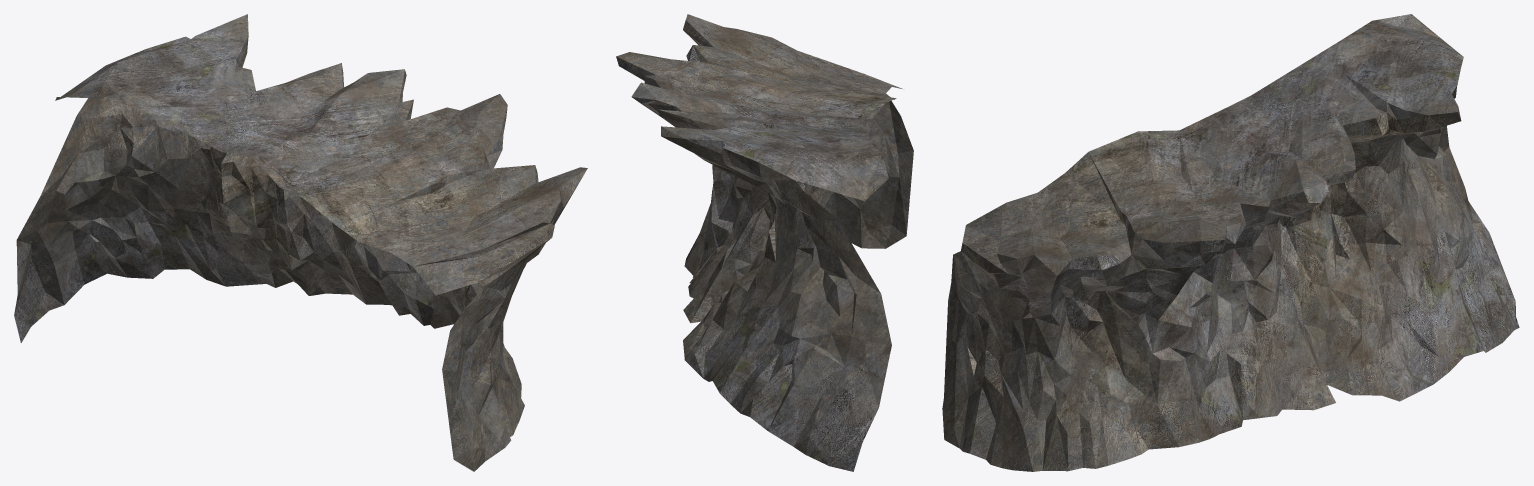
Rendered from RockWall3-2.fbx.
3 views of the same model, side by side, from view 1: azimuth 30°, elevation 25°; view 2: azimuth 150°, elevation 25°; view 3: azimuth 270°, elevation 25° (orthographic). The views are drawn at different scales.
Parts seen in each view (by area): view 1: LV_NSaltus_Rock_CrystalRock02_SM_KBE; view 2: LV_NSaltus_Rock_CrystalRock02_SM_KBE; view 3: LV_NSaltus_Rock_CrystalRock02_SM_KBE.
Part boxes in pixels (bbox=[...]): LV_NSaltus_Rock_CrystalRock02_SM_KBE: bbox=[14, 14, 587, 471]; LV_NSaltus_Rock_CrystalRock02_SM_KBE: bbox=[616, 14, 913, 471]; LV_NSaltus_Rock_CrystalRock02_SM_KBE: bbox=[942, 14, 1519, 471].
Size of the model in its own units: 15.19 by 10.84 by 17.27.
Materials: 1 (1 with a texture image).
